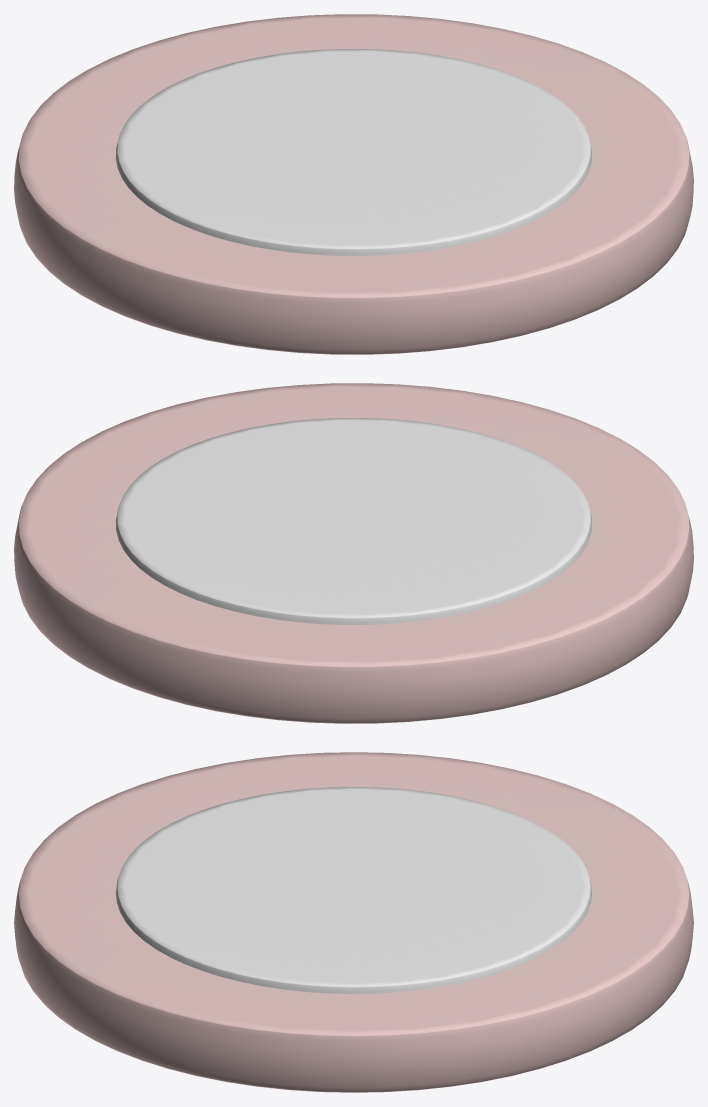
The model's file is start.fbx.
3 renders of one model, top to bottom at view 1: azimuth 30°, elevation 25°; view 2: azimuth 150°, elevation 25°; view 3: azimuth 270°, elevation 25°, orthographic.
Visible parts, largest first — view 1: start, Sphere.001; view 2: start, Sphere.001; view 3: start, Sphere.001.
Part boxes in pixels (left/top/right/bottom): start: left=14, top=14, right=693, bottom=354; Sphere.001: left=115, top=49, right=592, bottom=255; start: left=14, top=383, right=693, bottom=723; Sphere.001: left=115, top=418, right=592, bottom=624; start: left=14, top=752, right=693, bottom=1092; Sphere.001: left=115, top=787, right=592, bottom=993.
Bounding box in the file's own units: 198 × 21.32 × 198.
